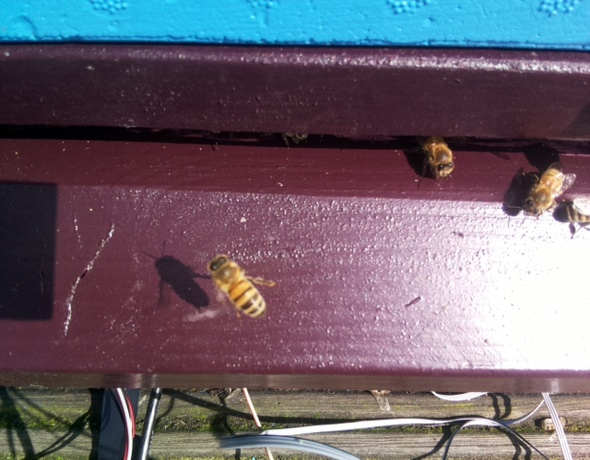no_pollen: (204, 253, 269, 319), (522, 165, 570, 222), (419, 133, 456, 181), (562, 195, 590, 228)
